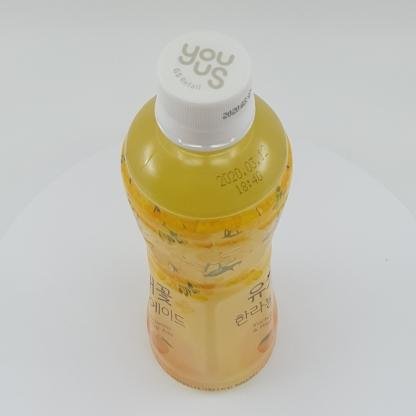-------------410ML: (120, 31, 293, 391)
